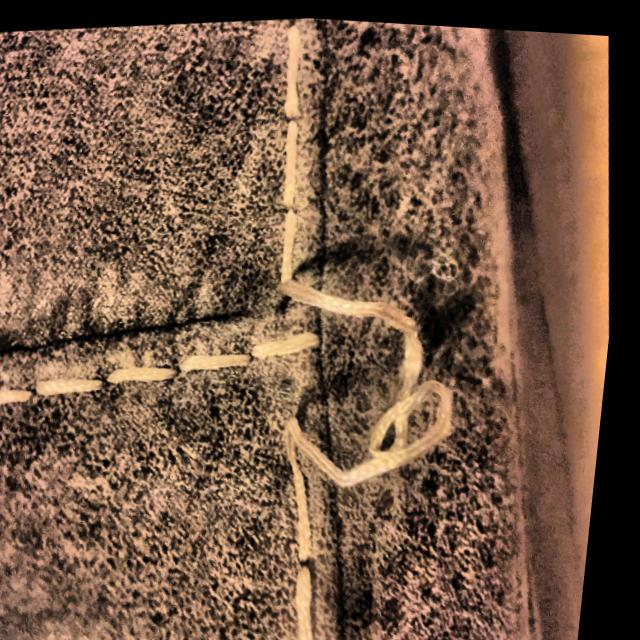Stitch: (238, 160, 498, 548)
